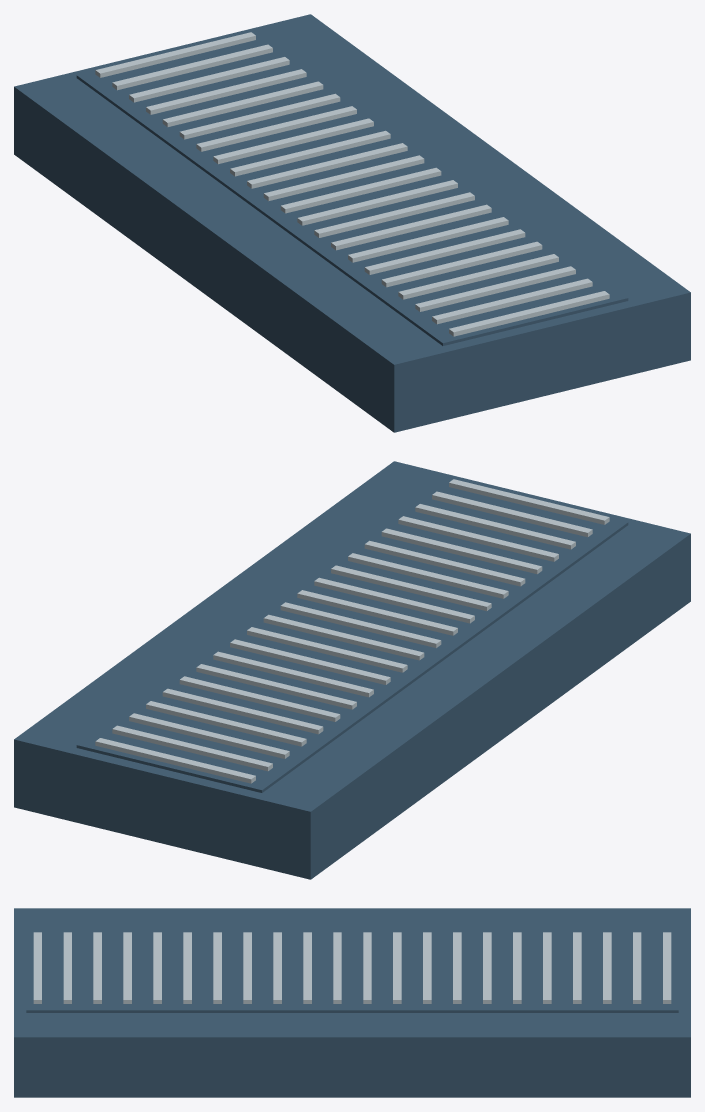
Rendered from 16_L79_GantryYCrossbeam.fbx.
The picture shows the model from 3 angles, top to bottom: view 1: azimuth 30°, elevation 25°; view 2: azimuth 150°, elevation 25°; view 3: azimuth 270°, elevation 25°; orthographic projection. The views are drawn at different scales.
Parts seen in each view (by area): view 1: GantryYCrossbeam, GantryYCrossbeam_Part_0023; view 2: GantryYCrossbeam, GantryYCrossbeam_Part_0023; view 3: GantryYCrossbeam, GantryYCrossbeam_Part_0023.
Part boxes in pixels (x1=…): GantryYCrossbeam: x1=14, y1=14, x2=690, y2=432; GantryYCrossbeam_Part_0023: x1=76, y1=30, x2=628, y2=345; GantryYCrossbeam: x1=14, y1=461, x2=690, y2=879; GantryYCrossbeam_Part_0023: x1=76, y1=477, x2=628, y2=792; GantryYCrossbeam: x1=14, y1=908, x2=690, y2=1097; GantryYCrossbeam_Part_0023: x1=26, y1=930, x2=678, y2=1012.
Size of the model in its own units: 160 by 40.25 by 355.
